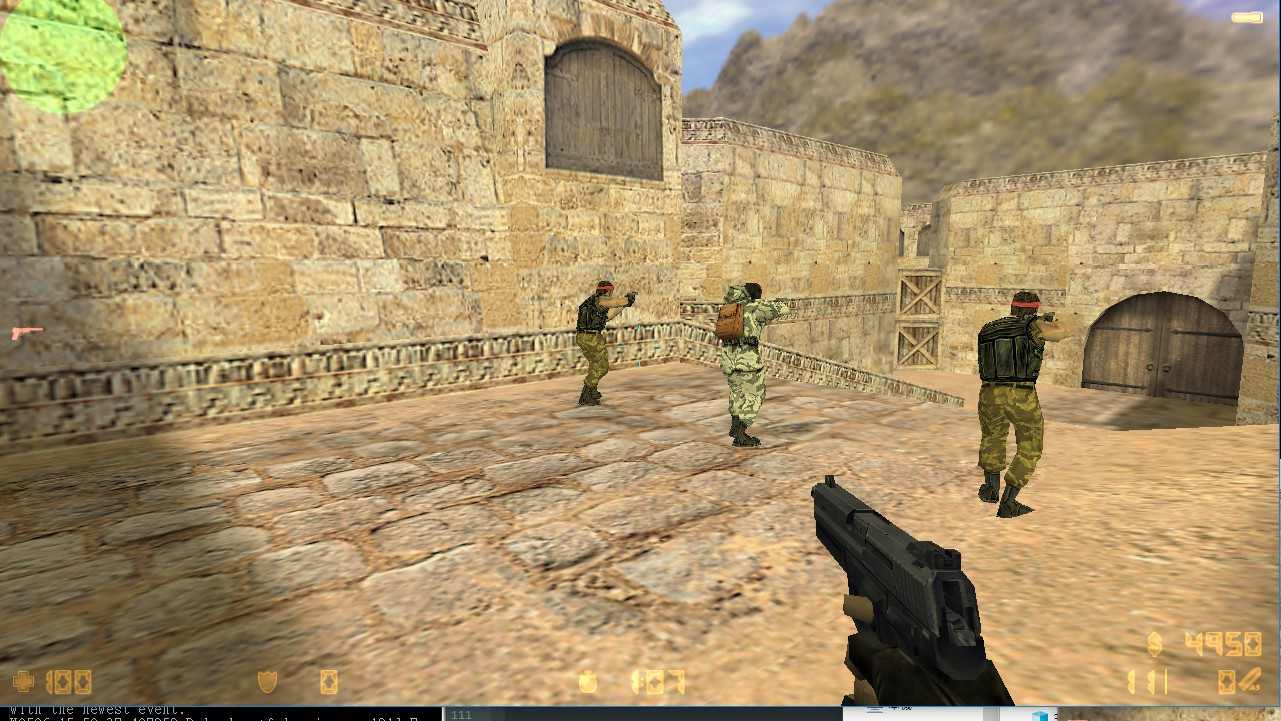person: (963, 281, 1051, 519), (708, 271, 772, 451), (572, 277, 631, 410)
